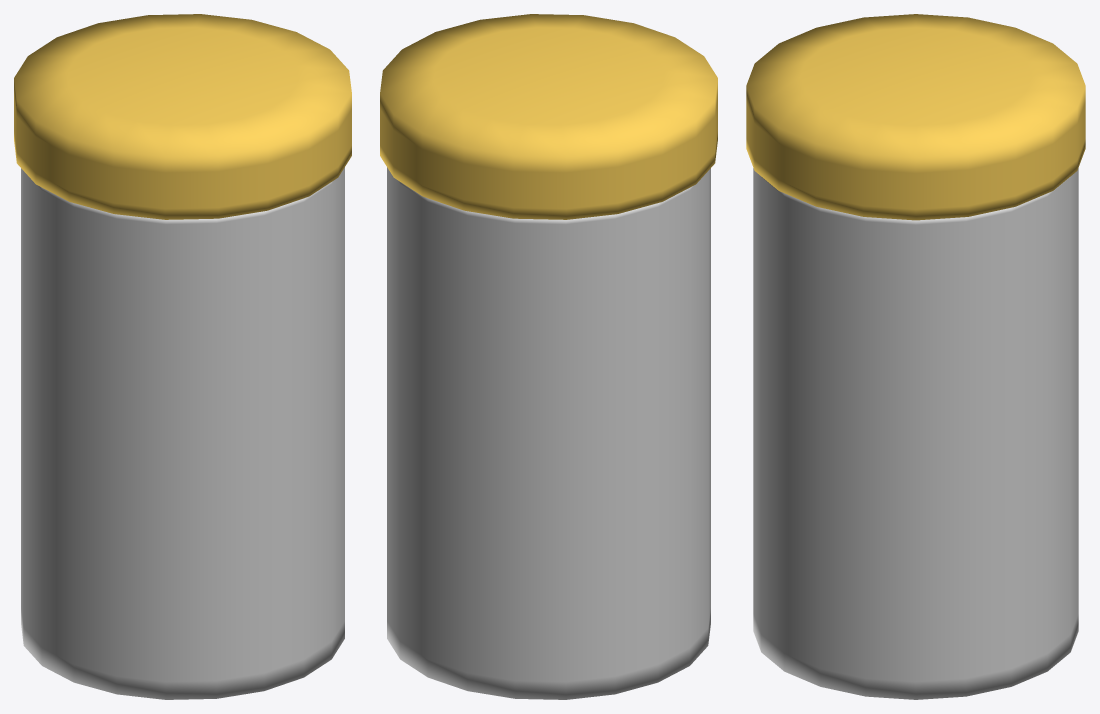
File: glass_jar.glb
3 views of the same model, side by side, from view 1: azimuth 30°, elevation 25°; view 2: azimuth 150°, elevation 25°; view 3: azimuth 270°, elevation 25° (orthographic).
Parts seen in each view (by area): view 1: Cylinder, Cylinder.001; view 2: Cylinder, Cylinder.001; view 3: Cylinder, Cylinder.001.
Part boxes in pixels (x1,y1,x2,y2): Cylinder: (21, 167, 344, 699); Cylinder.001: (14, 14, 351, 219); Cylinder: (387, 167, 710, 699); Cylinder.001: (380, 14, 717, 219); Cylinder: (753, 168, 1078, 699); Cylinder.001: (746, 14, 1085, 220).
Size of the model in its own units: 2.09 by 3.76 by 2.09.
